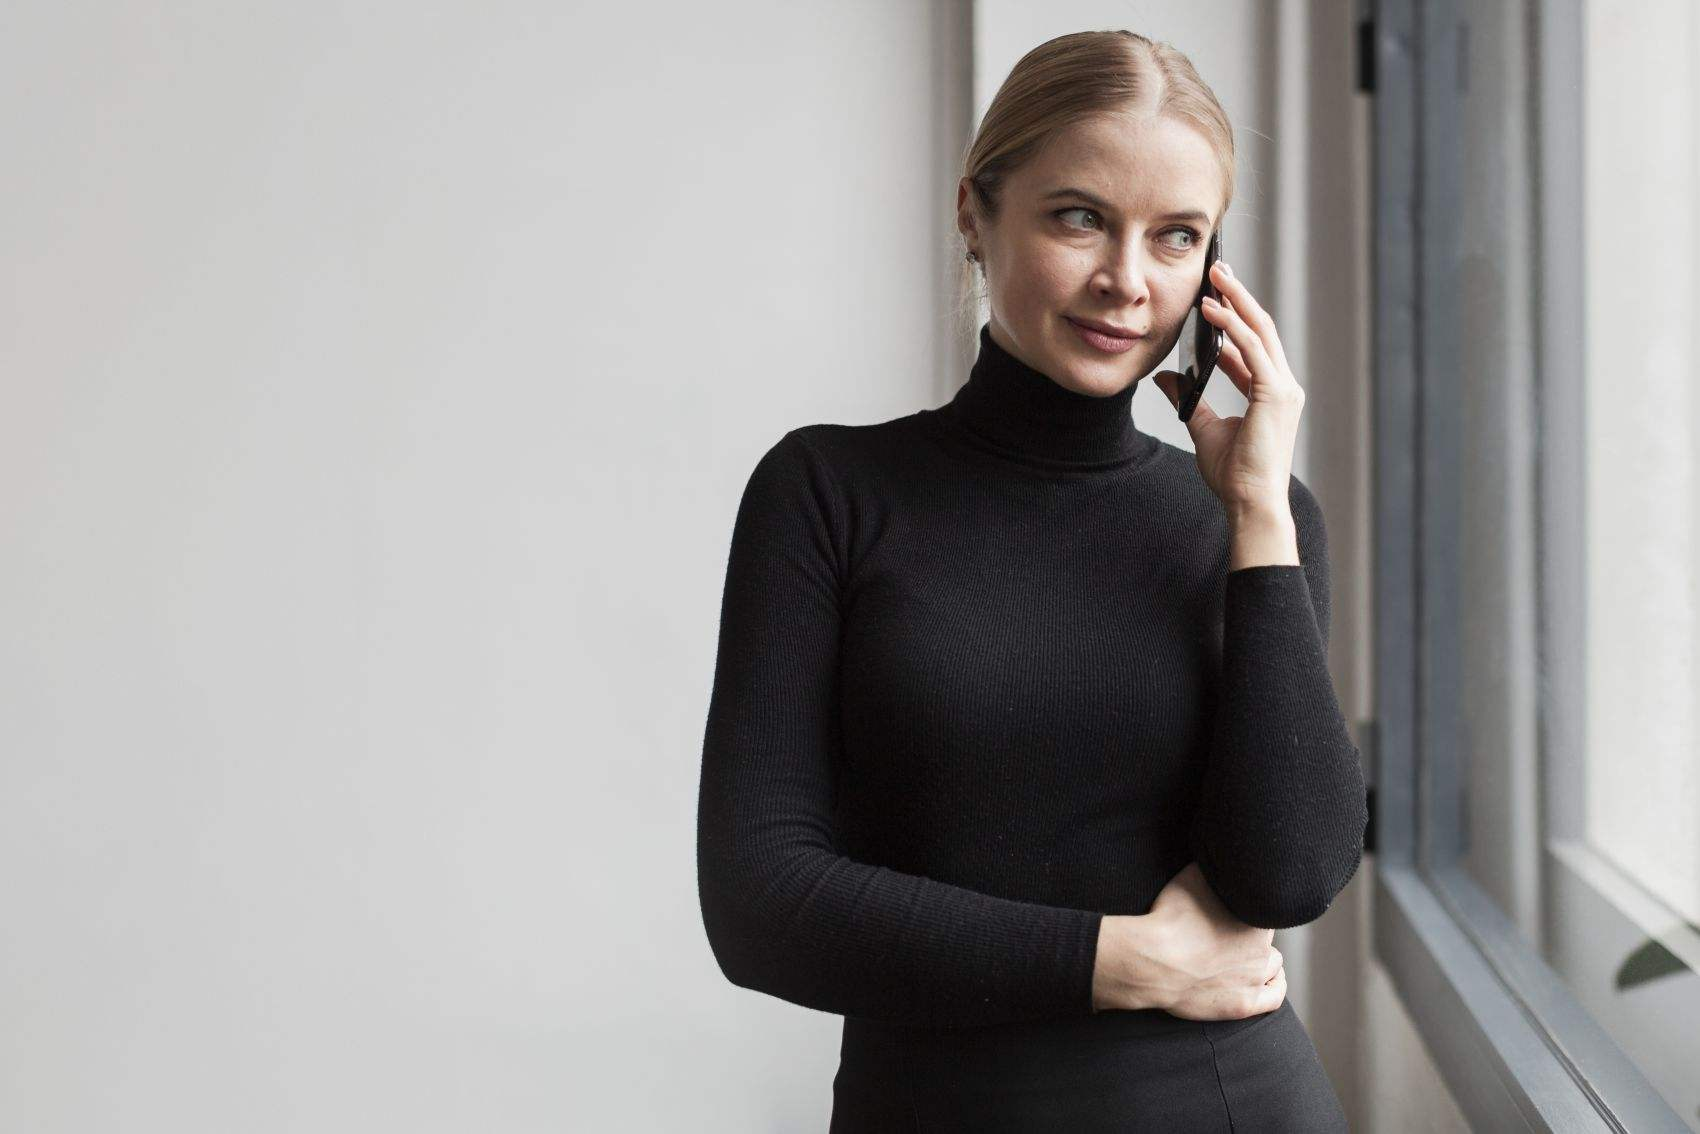calling: (1148, 209, 1311, 504)
